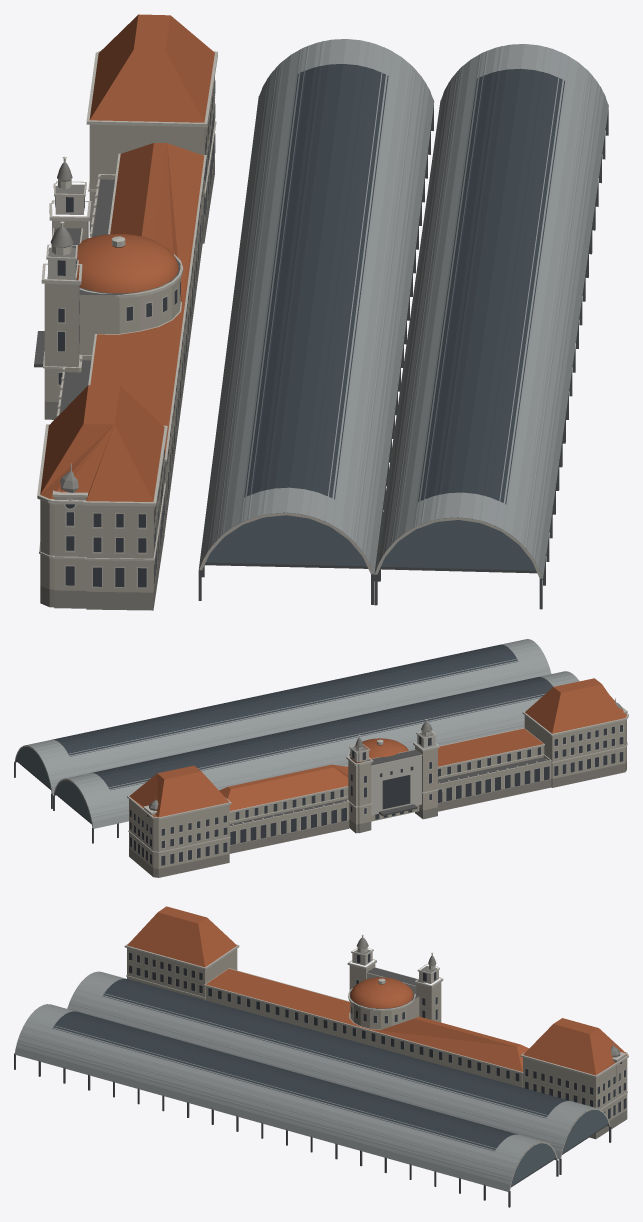
The model's file is hlavni_nadrazi.glb.
3 views of the same model, one above another, from view 1: azimuth 30°, elevation 25°; view 2: azimuth 150°, elevation 25°; view 3: azimuth 270°, elevation 25° (orthographic). The views are drawn at different scales.
Visible parts, largest first — view 1: L0, L1, L2; view 2: L0, L1, L2; view 3: L0, L1, L2.
Boxes of the visible parts, <box> form: L0: <box>34,14,608,610</box>; L1: <box>51,41,601,577</box>; L2: <box>63,45,592,569</box>; L0: <box>14,639,628,877</box>; L1: <box>14,639,623,857</box>; L2: <box>16,639,564,810</box>; L0: <box>14,906,628,1207</box>; L1: <box>16,938,626,1190</box>; L2: <box>19,971,608,1185</box>.
Bounding box in the file's own units: 211 × 46 × 237.
